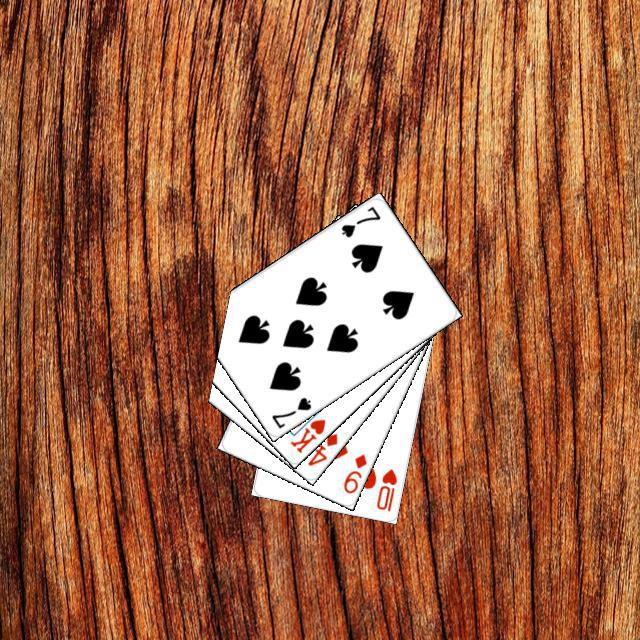10h: (371, 464, 399, 513)
4d: (303, 428, 339, 468)
7s: (267, 392, 313, 430), (336, 201, 382, 239)
9d: (338, 449, 369, 495)
Kh: (285, 404, 327, 455)
